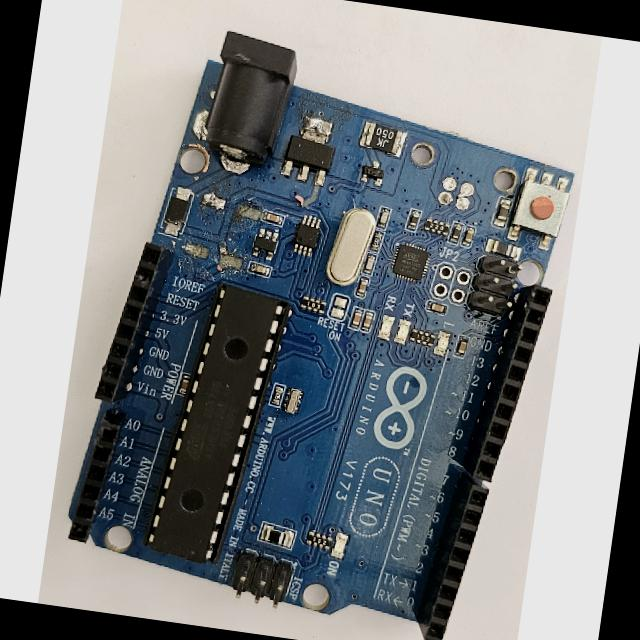missing_capacitors: (174, 182, 271, 281)
missing_usb: (392, 131, 508, 234)
